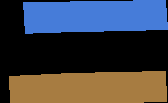parkingspot: (9, 71, 166, 103), (23, 0, 167, 33)
